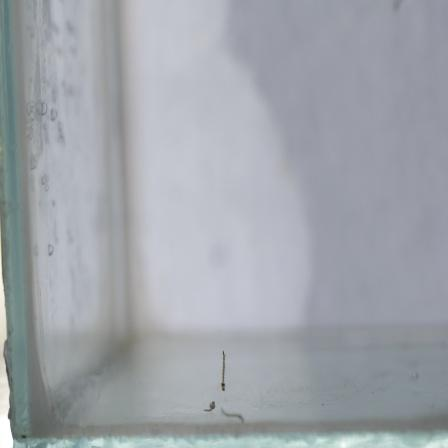Jentik-Nyamuk: (217, 348, 234, 393), (200, 399, 219, 413)
